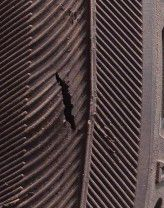cut: (54, 71, 77, 133)
